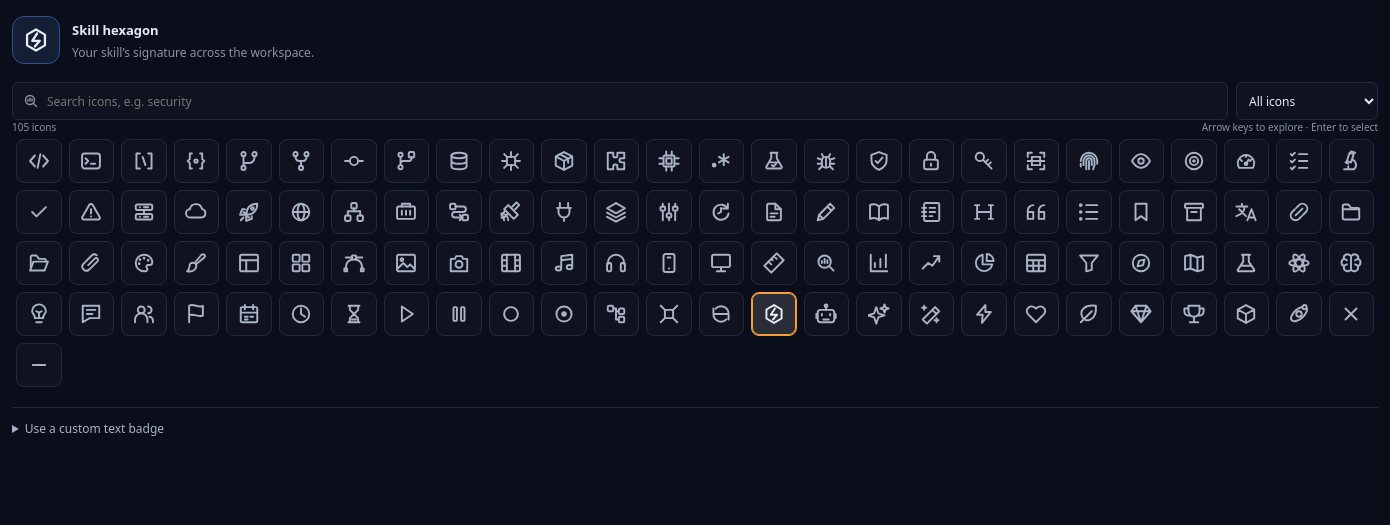
SkillIconPicker › keeps custom text badges available
This screenshot has width=1390, height=525.
Click the heading "Use a custom text badge" at (94, 428), box [25,420,164,437]
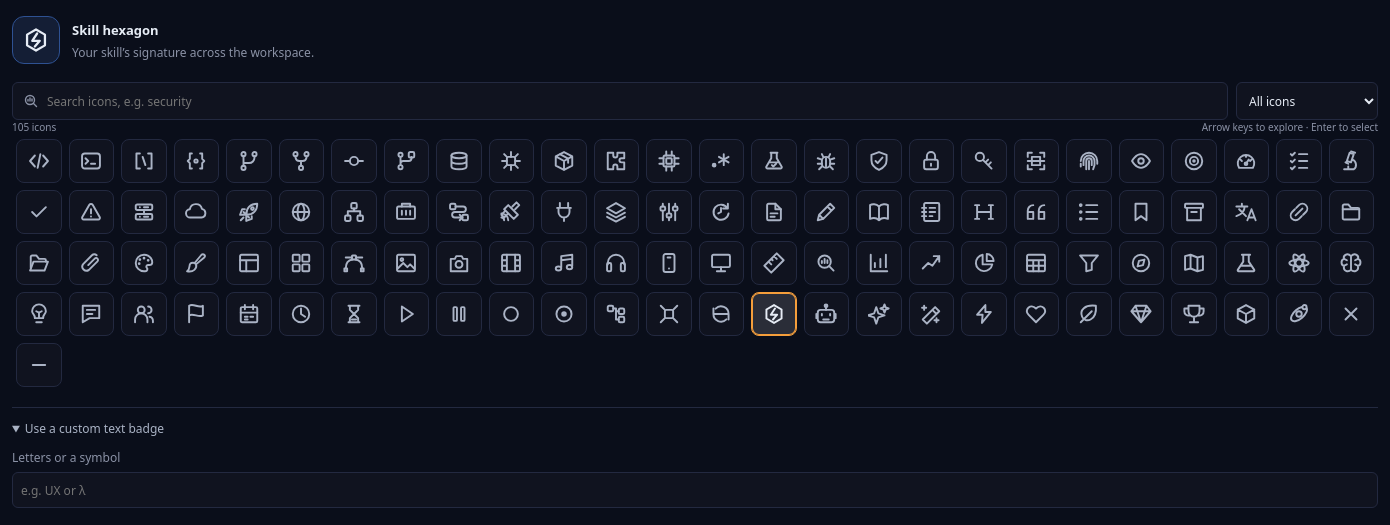
Type "UX" into the field labelled "Letters or a symbol" at (695, 490), box [12,472,1378,508]
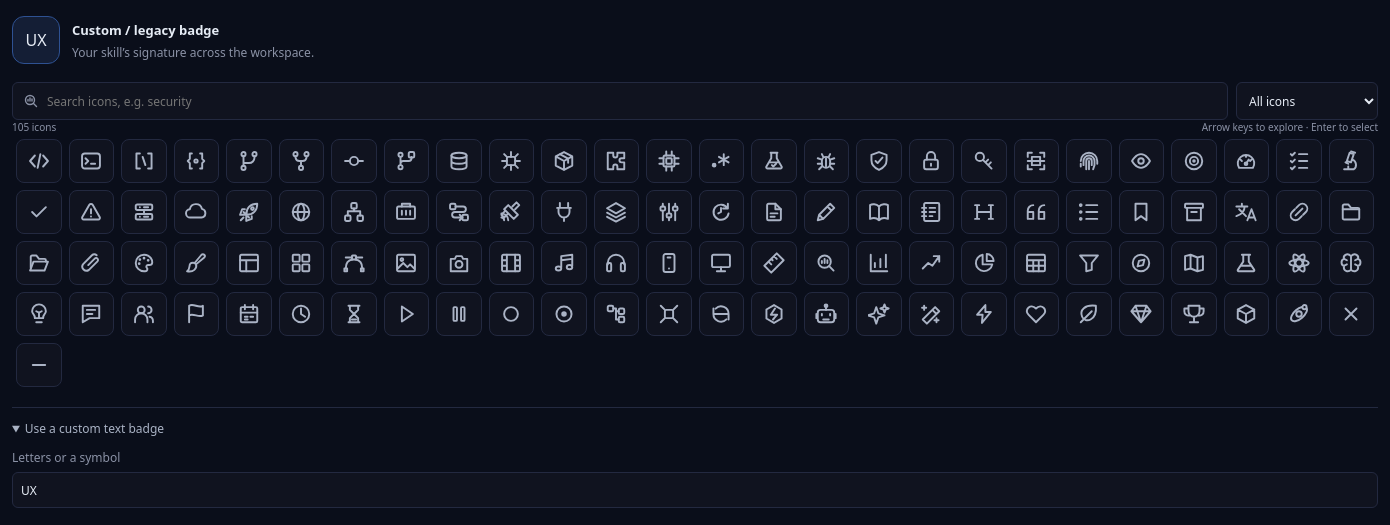
Now the text "UX" is shown, box [26,29,47,51]
